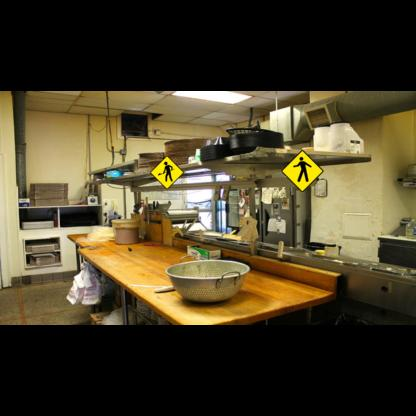A-24: (150, 155, 184, 190)
A-32a: (281, 150, 324, 193)
